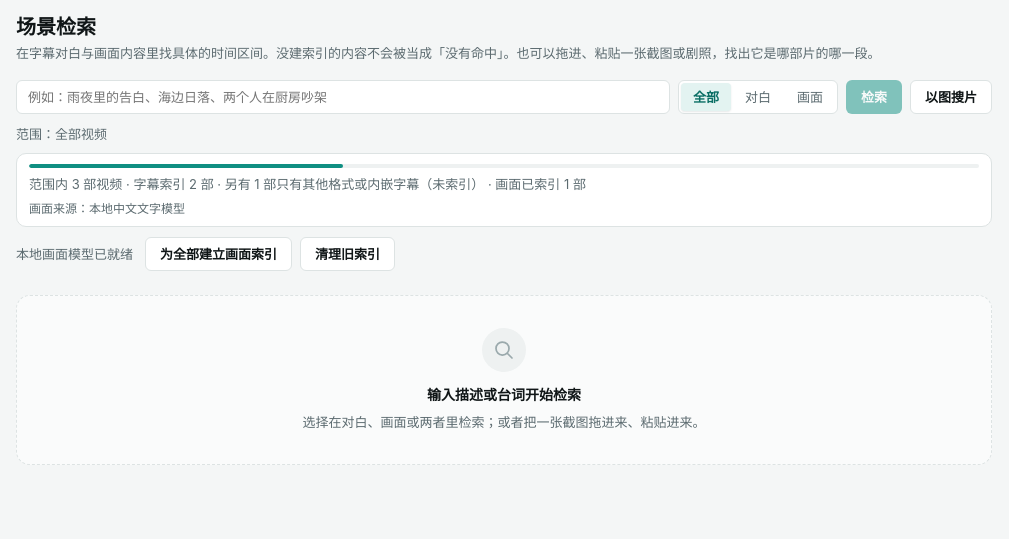
Scenario: 场景检索页（D-MW-SCENES） › 后端错误代码显示成中文
Type "猫" into the search field with test id "scenes-query" at [343, 96], box [16,80,670,114]
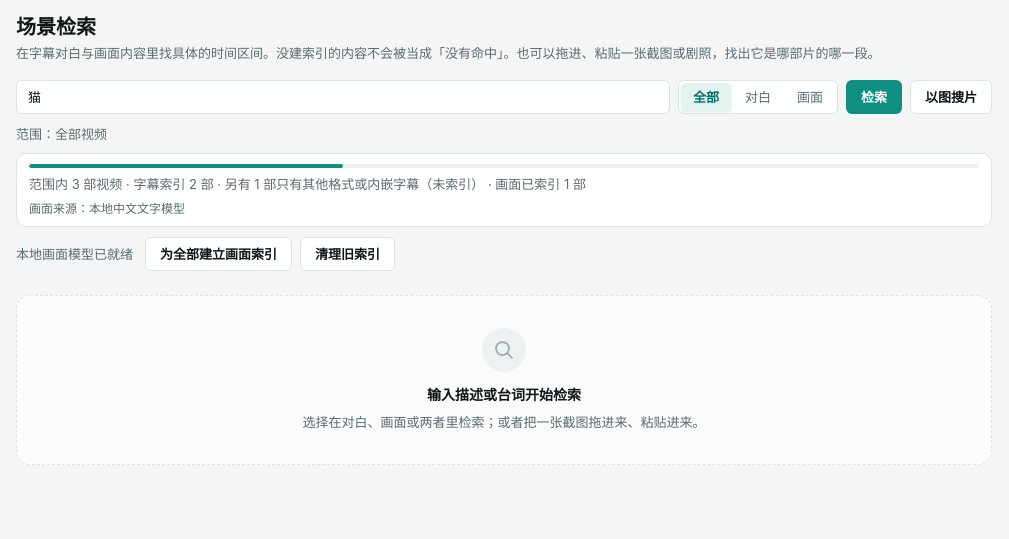
Submit the form with test id "scenes-search-form", box [16,80,992,114]
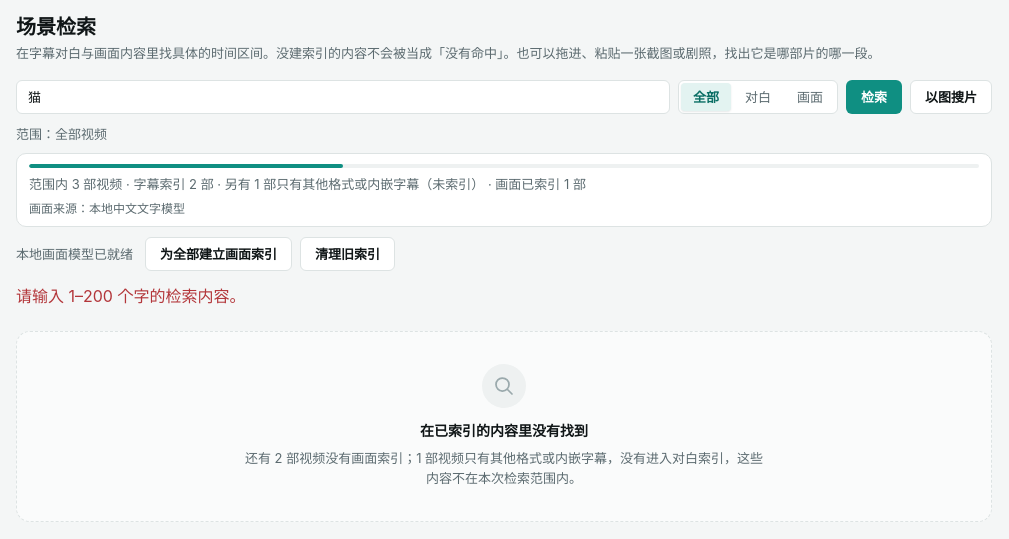
expect the message with test id "scenes-error" shows "1–200": met, box [16,286,246,306]
